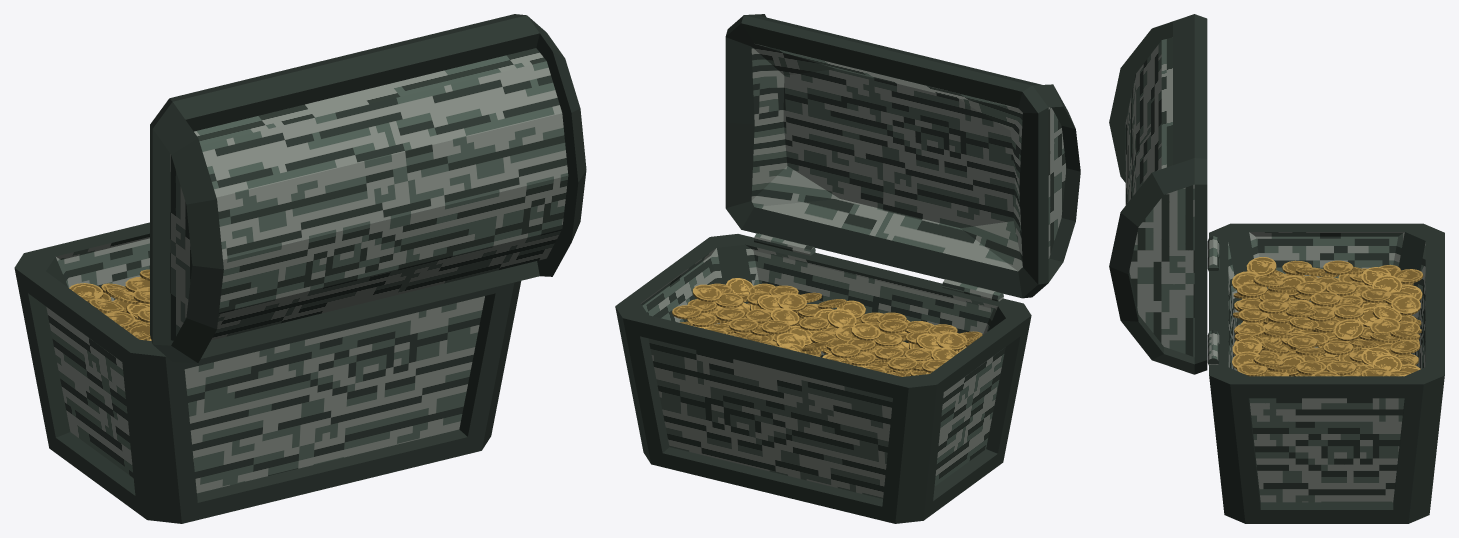
File: SM_Chest.fbx
3 views of the same model, side by side, from view 1: azimuth 30°, elevation 25°; view 2: azimuth 150°, elevation 25°; view 3: azimuth 270°, elevation 25° (orthographic). The views are drawn at different scales.
Visible parts, largest first — view 1: Chest_Top, Chest, Money; view 2: Chest_Top, Chest, Money; view 3: Chest, Chest_Top, Money.
Boxes of the visible parts, box(x1,y1,x2,y2) form: Chest_Top: box(150, 14, 586, 363); Chest: box(14, 222, 521, 523); Money: box(69, 269, 151, 340); Chest_Top: box(725, 14, 1080, 298); Chest: box(615, 233, 1031, 523); Money: box(672, 278, 982, 376); Chest: box(1207, 223, 1444, 523); Chest_Top: box(1109, 14, 1207, 374); Money: box(1232, 257, 1423, 376).
Size of the model in its own units: 205 by 219 by 181.
